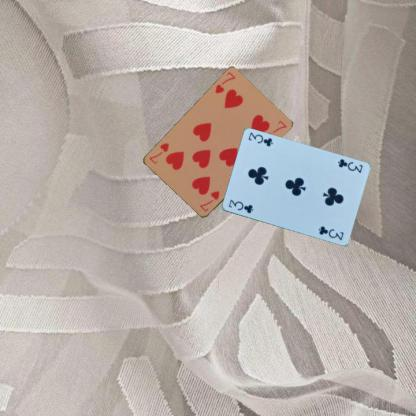3c: (335, 156, 364, 174), (226, 197, 254, 215)
7h: (196, 188, 221, 214), (213, 69, 238, 95)
